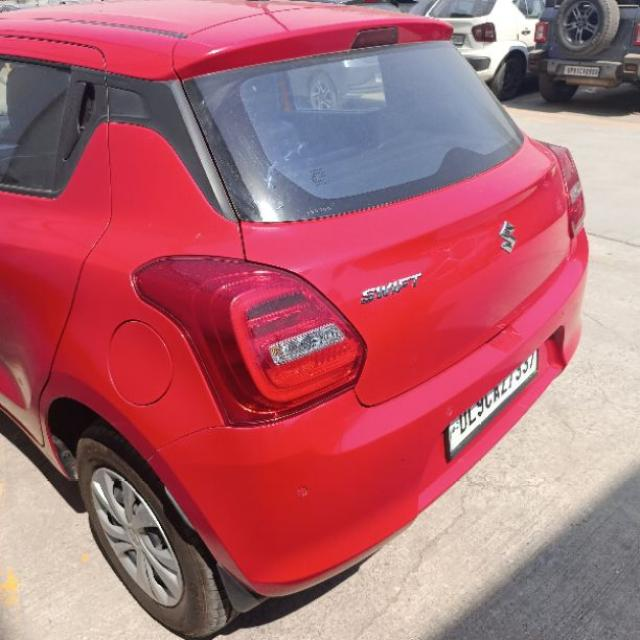license_plate: (442, 347, 540, 461), (562, 64, 600, 77)
